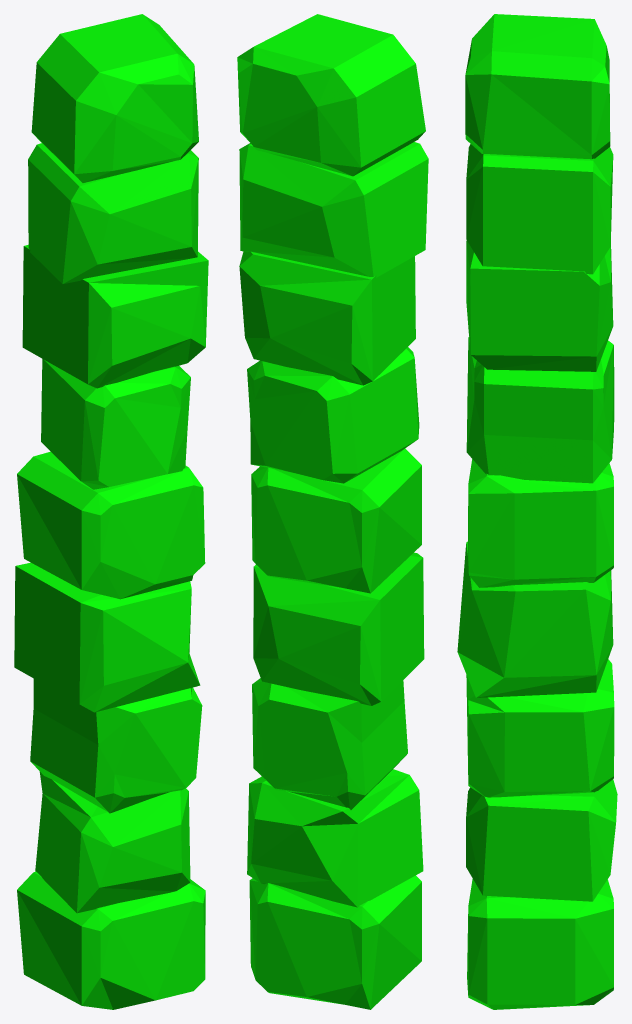
File: SM_Pillar_Stone_3m_Fantasy.fbx
3 renders of one model, left to right at view 1: azimuth 30°, elevation 25°; view 2: azimuth 150°, elevation 25°; view 3: azimuth 270°, elevation 25°, orthographic.
Visible parts, largest first — view 1: pillar-stone-3m-fantasy; view 2: pillar-stone-3m-fantasy; view 3: pillar-stone-3m-fantasy.
Part boxes in pixels (x1,y1,x2,y2): pillar-stone-3m-fantasy: (14,14,208,1009); pillar-stone-3m-fantasy: (237,14,428,1009); pillar-stone-3m-fantasy: (457,14,617,1009).
Size of the model in its own units: 0.4862 by 3.03 by 0.4601.
